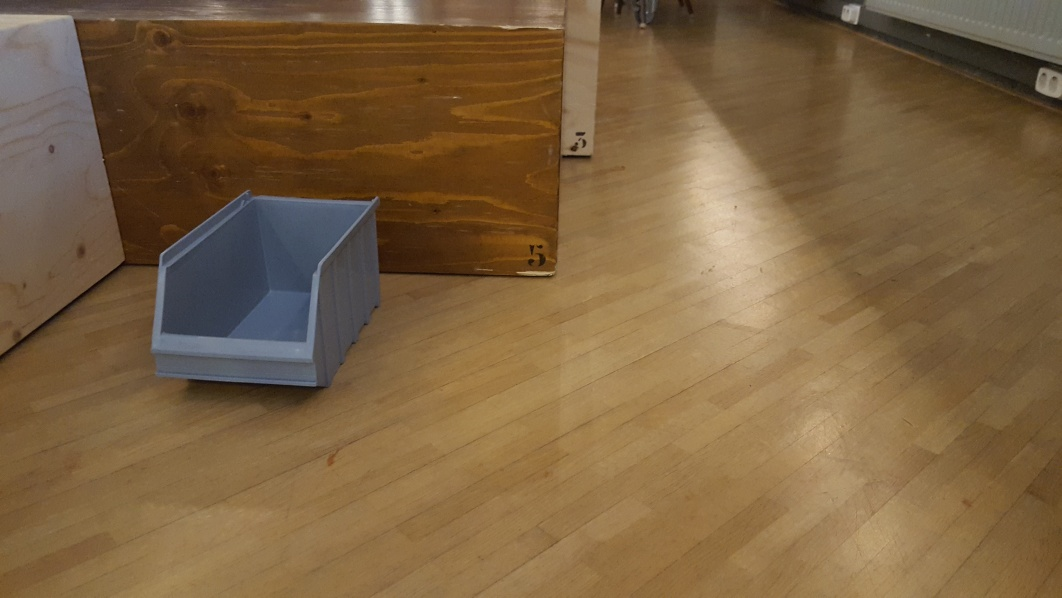tray: (150, 193, 382, 388)
